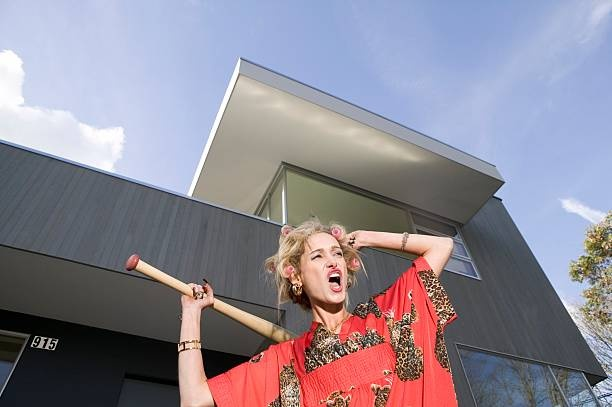bita: (124, 253, 292, 343)
